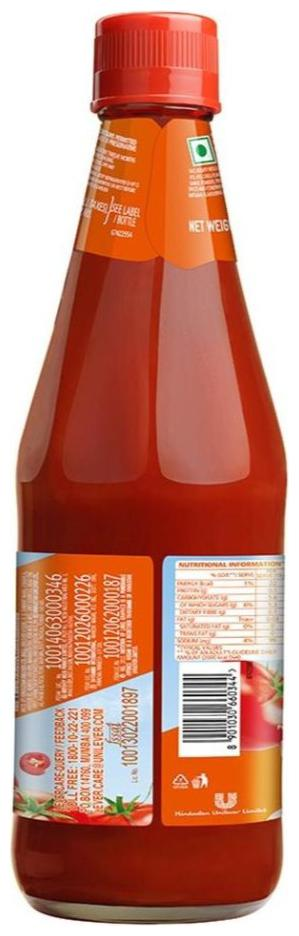fssai: (105, 720, 121, 746)
